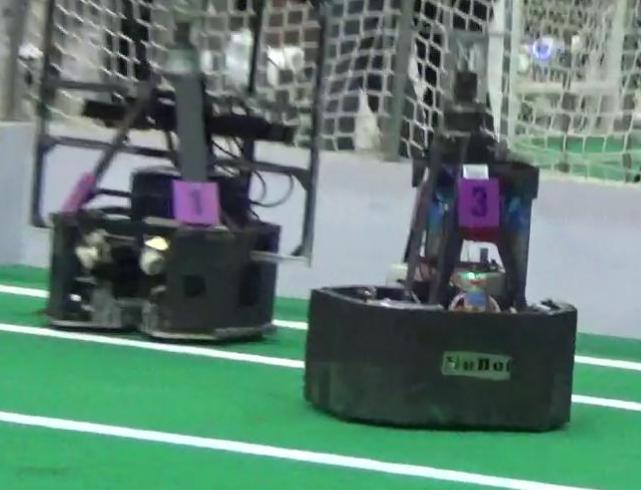robot: (314, 7, 588, 437), (27, 7, 285, 345)
